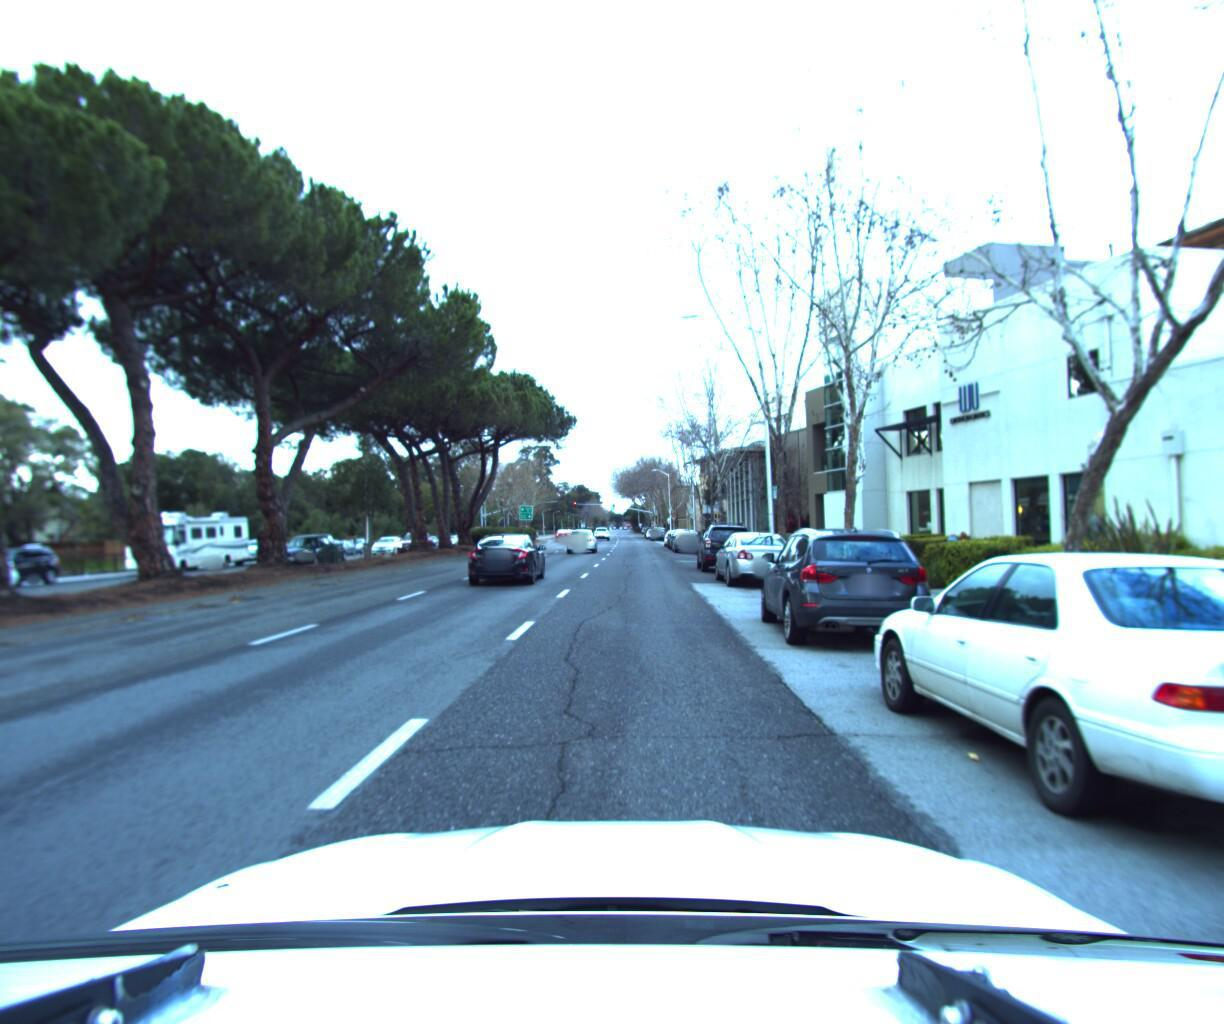car: (840, 534, 1224, 924), (755, 518, 946, 657), (713, 525, 806, 587), (462, 527, 548, 585), (0, 544, 72, 596), (696, 516, 760, 573), (273, 524, 345, 560), (233, 534, 295, 564), (0, 550, 33, 604), (564, 525, 598, 551), (672, 526, 706, 550), (369, 536, 406, 556)
other_vehicle: (114, 504, 259, 576)
